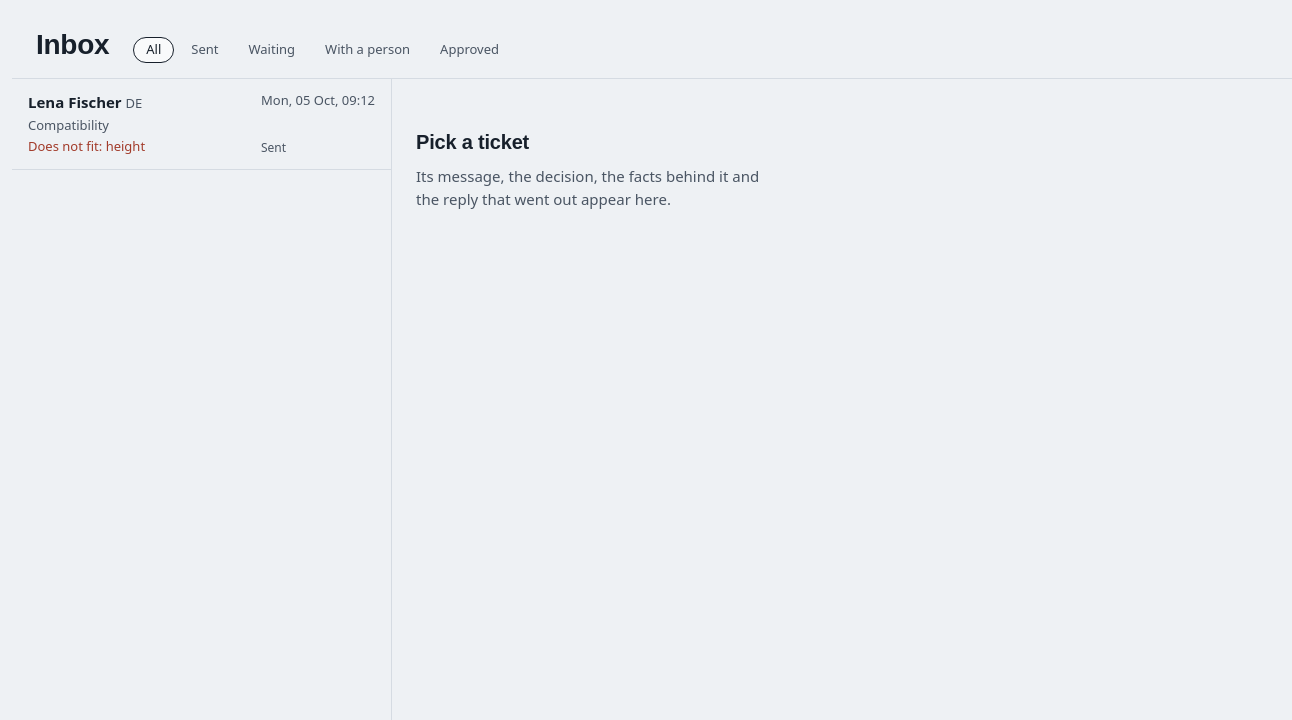
inbox › lists tickets, opens one and shows its decision trace
Click the button "Lena Fischer" at coordinates (75, 102), box top-left (12, 79), bottom-right (391, 170)
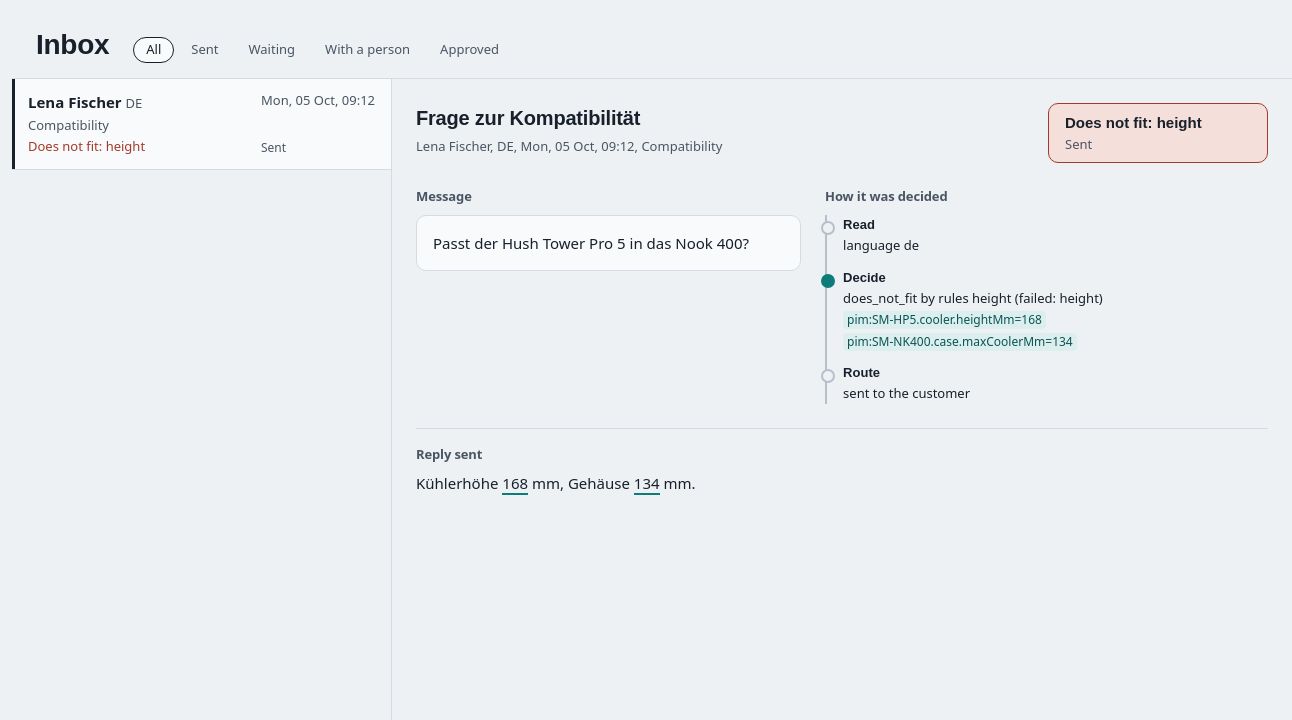
Check: the 2nd text "Does not fit: height" is shown, box top-left (28, 137), bottom-right (145, 155)
Check: the text "Passt der Hush Tower Pro 5 in das Nook 400?" is shown, box top-left (416, 214), bottom-right (801, 271)
Check: the text "pim:SM-HP5.cooler.heightMm=168" is shown, box top-left (843, 310), bottom-right (1046, 328)
